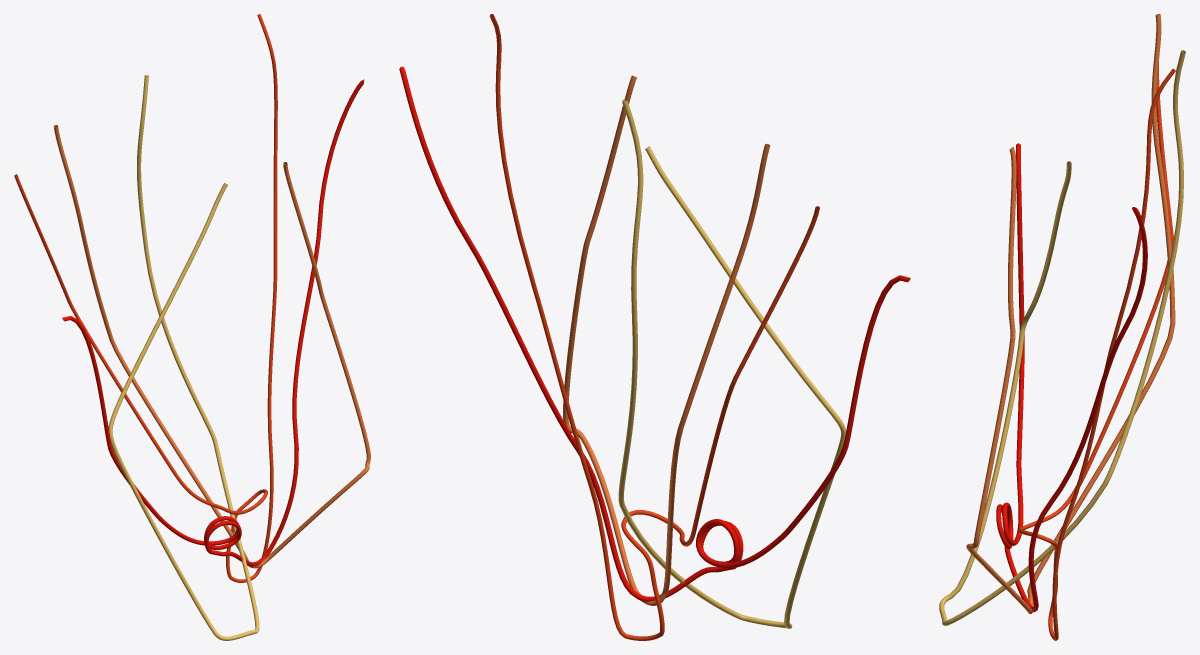
Rendered from polls.glb.
3 views of the same model, side by side, from view 1: azimuth 30°, elevation 25°; view 2: azimuth 150°, elevation 25°; view 3: azimuth 270°, elevation 25° (orthographic). The views are drawn at different scales.
Parts seen in each view (by area): view 1: POLL; view 2: POLL; view 3: POLL.
Part boxes in pixels (x1,y1,x2,y2): POLL: (14,14,370,640); POLL: (399,14,910,640); POLL: (939,14,1185,640).
Bounding box in the file's own units: 11.17 × 15.92 × 5.79.
